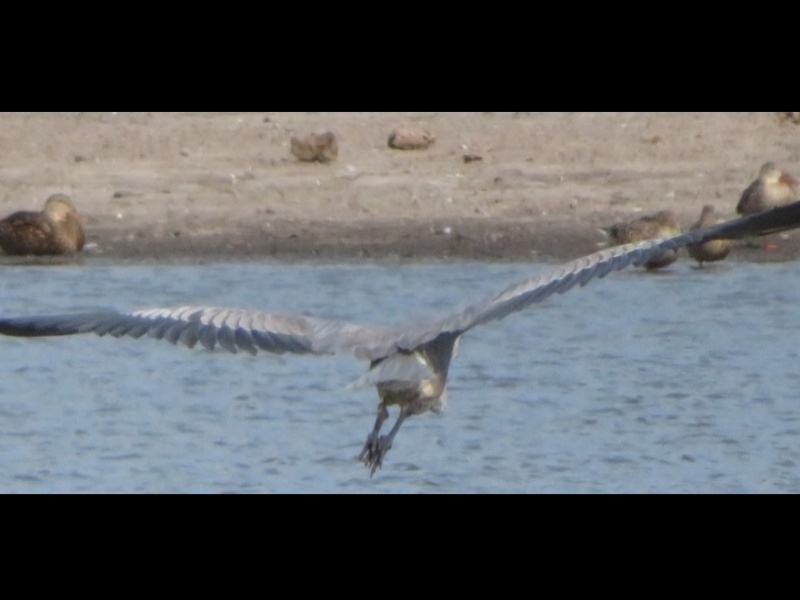heron: (1, 198, 796, 474)
